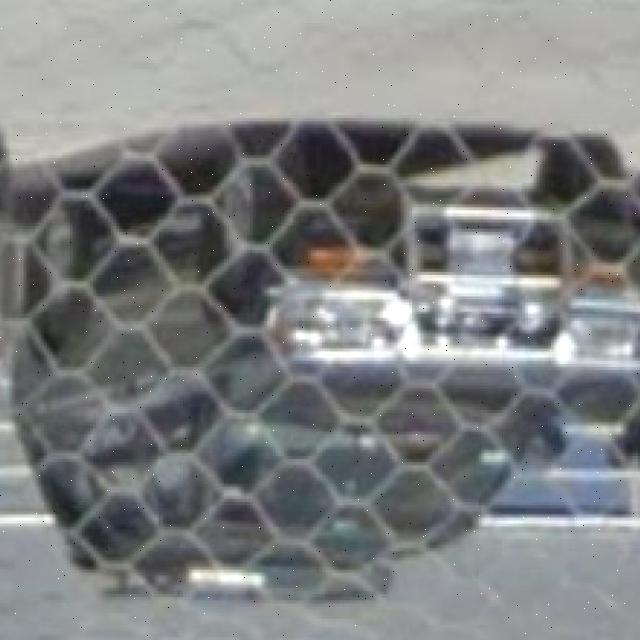car: (1, 130, 640, 619)
